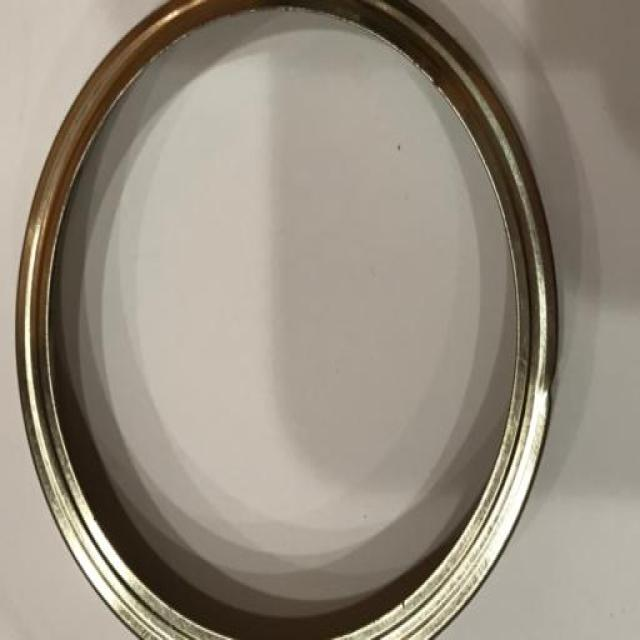Metal: (12, 0, 564, 640)
